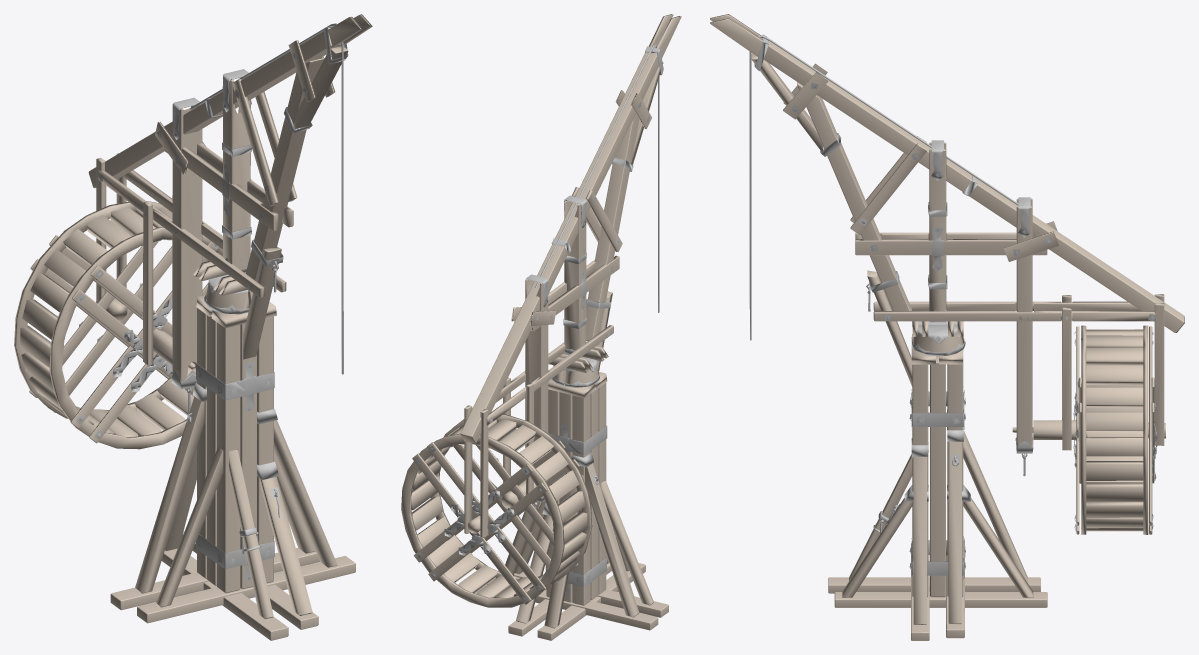
File: build_crane_01_decimated-20.FBX
The picture shows the model from 3 angles, left to right: view 1: azimuth 30°, elevation 25°; view 2: azimuth 150°, elevation 25°; view 3: azimuth 270°, elevation 25°; orthographic projection. The views are drawn at different scales.
Parts seen in each view (by area): view 1: build_crane_01, build_crane_01_wheel; view 2: build_crane_01, build_crane_01_wheel; view 3: build_crane_01, build_crane_01_wheel.
Boxes of the visible parts, x1,y1,x2,y2 form: build_crane_01: (88, 14, 372, 640); build_crane_01_wheel: (14, 201, 222, 449); build_crane_01: (460, 14, 681, 640); build_crane_01_wheel: (401, 414, 592, 607); build_crane_01: (710, 14, 1184, 640); build_crane_01_wheel: (1012, 325, 1165, 534).
Bounding box in the file's own units: 636 × 1858 × 1376.
